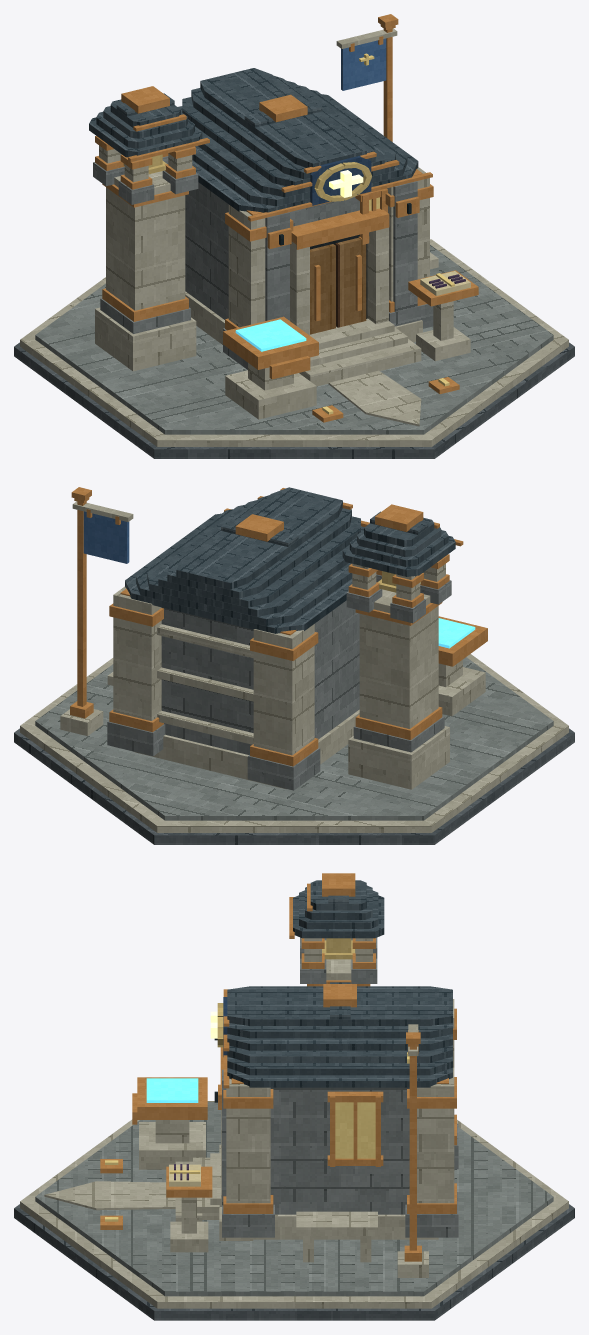
File: dwarf_sacred_temple_hex_v1.glb
3 renders of one model, top to bottom at view 1: azimuth 30°, elevation 25°; view 2: azimuth 150°, elevation 25°; view 3: azimuth 270°, elevation 25°, orthographic.
Visible parts, largest first — view 1: Dwarf_Sacred_Temple_Hex_V1_Foundation, Dwarf_Sacred_Temple_Hex_V1_Hall, Dwarf_Sacred_Temple_Hex_V1_Roofs, Dwarf_Sacred_Temple_Hex_V1_Training, Dwarf_Sacred_Temple_Hex_V1_Details, Dwarf_Sacred_Temple_Hex_V1_Courtyard, Dwarf_Sacred_Temple_Hex_V1_Faction, Dwarf_Sacred_Temple_Hex_V1_Focus; view 2: Dwarf_Sacred_Temple_Hex_V1_Hall, Dwarf_Sacred_Temple_Hex_V1_Foundation, Dwarf_Sacred_Temple_Hex_V1_Roofs, Dwarf_Sacred_Temple_Hex_V1_Faction, Dwarf_Sacred_Temple_Hex_V1_Training, Dwarf_Sacred_Temple_Hex_V1_Details; view 3: Dwarf_Sacred_Temple_Hex_V1_Foundation, Dwarf_Sacred_Temple_Hex_V1_Hall, Dwarf_Sacred_Temple_Hex_V1_Roofs, Dwarf_Sacred_Temple_Hex_V1_Training, Dwarf_Sacred_Temple_Hex_V1_Details, Dwarf_Sacred_Temple_Hex_V1_Courtyard, Dwarf_Sacred_Temple_Hex_V1_Faction, Dwarf_Sacred_Temple_Hex_V1_Focus.
Part boxes in pixels (<box>): Dwarf_Sacred_Temple_Hex_V1_Foundation: <box>14,239,574,458</box>; Dwarf_Sacred_Temple_Hex_V1_Hall: <box>93,136,433,371</box>; Dwarf_Sacred_Temple_Hex_V1_Roofs: <box>89,68,432,221</box>; Dwarf_Sacred_Temple_Hex_V1_Training: <box>223,252,478,419</box>; Dwarf_Sacred_Temple_Hex_V1_Details: <box>246,169,459,422</box>; Dwarf_Sacred_Temple_Hex_V1_Courtyard: <box>299,318,421,426</box>; Dwarf_Sacred_Temple_Hex_V1_Faction: <box>336,14,398,141</box>; Dwarf_Sacred_Temple_Hex_V1_Focus: <box>123,154,371,205</box>; Dwarf_Sacred_Temple_Hex_V1_Hall: <box>107,554,451,790</box>; Dwarf_Sacred_Temple_Hex_V1_Foundation: <box>14,654,574,844</box>; Dwarf_Sacred_Temple_Hex_V1_Roofs: <box>125,487,463,633</box>; Dwarf_Sacred_Temple_Hex_V1_Faction: <box>60,487,133,735</box>; Dwarf_Sacred_Temple_Hex_V1_Training: <box>107,616,487,716</box>; Dwarf_Sacred_Temple_Hex_V1_Details: <box>120,588,296,744</box>; Dwarf_Sacred_Temple_Hex_V1_Foundation: <box>14,1101,574,1320</box>; Dwarf_Sacred_Temple_Hex_V1_Hall: <box>220,937,458,1239</box>; Dwarf_Sacred_Temple_Hex_V1_Roofs: <box>223,873,452,1088</box>; Dwarf_Sacred_Temple_Hex_V1_Training: <box>132,1077,377,1262</box>; Dwarf_Sacred_Temple_Hex_V1_Details: <box>100,1038,448,1240</box>; Dwarf_Sacred_Temple_Hex_V1_Courtyard: <box>44,1153,221,1221</box>; Dwarf_Sacred_Temple_Hex_V1_Faction: <box>397,1024,428,1277</box>; Dwarf_Sacred_Temple_Hex_V1_Focus: <box>210,938,355,1056</box>.
Size of the model in its own units: 1.59 by 0.9954 by 1.84.
Materials: 1 (1 with a texture image).
